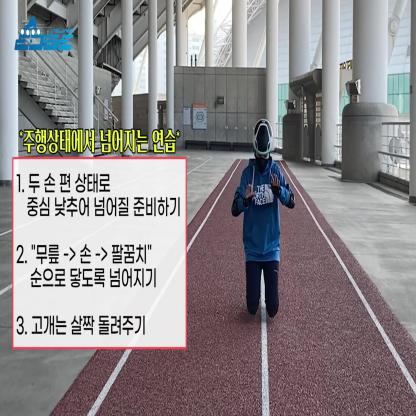Fall_Down: (230, 115, 297, 316)
